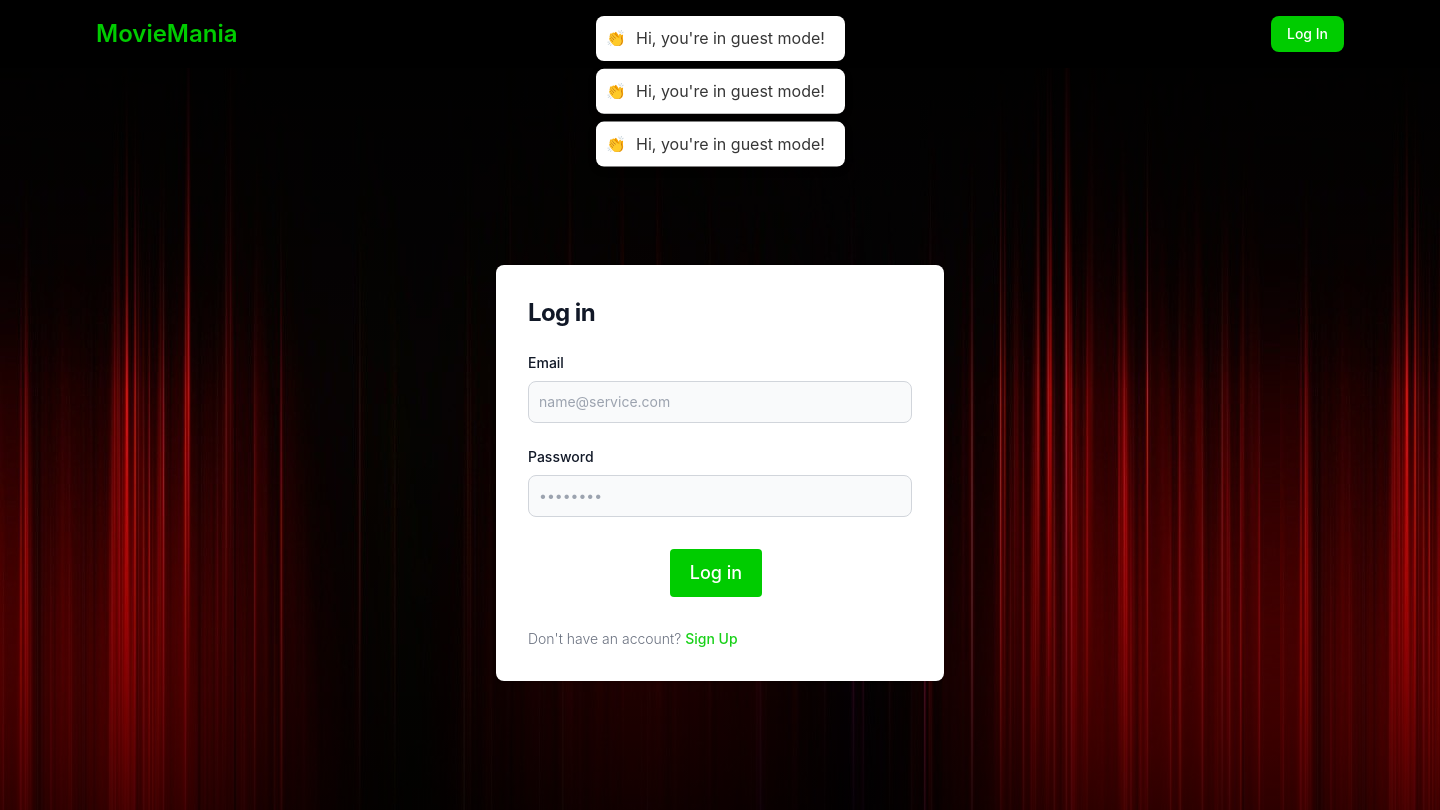
Test: LogIn Component Unit and Functional Tests › form validation for missing password
This screenshot has width=1440, height=810.
Type "test@example.com" into the field with placeholder "name@service.com".
click(720, 402); type("test@example.com")  # box x1=528 y1=381 x2=912 y2=423
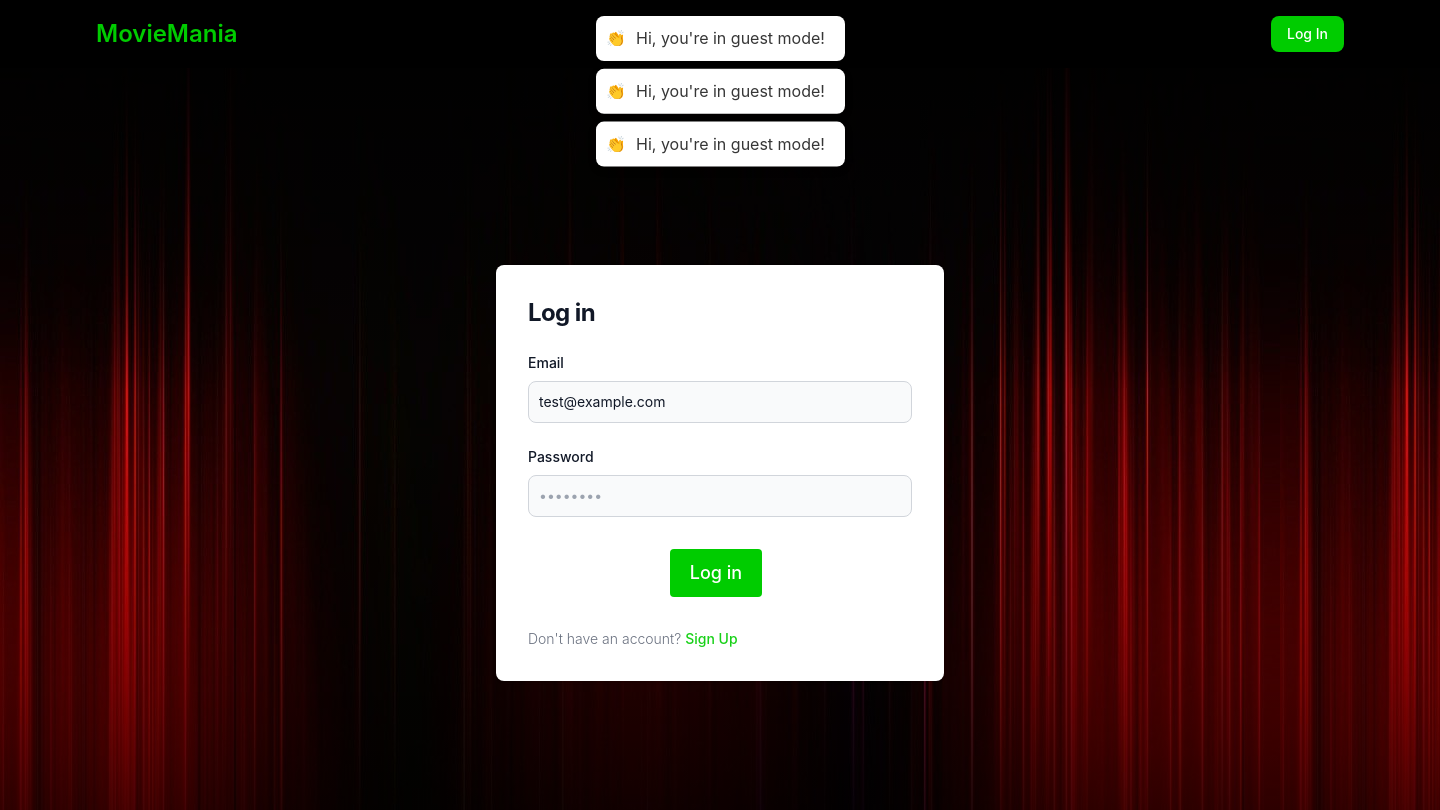
Click the button "Log in".
click(716, 573)  # box x1=670 y1=549 x2=762 y2=597
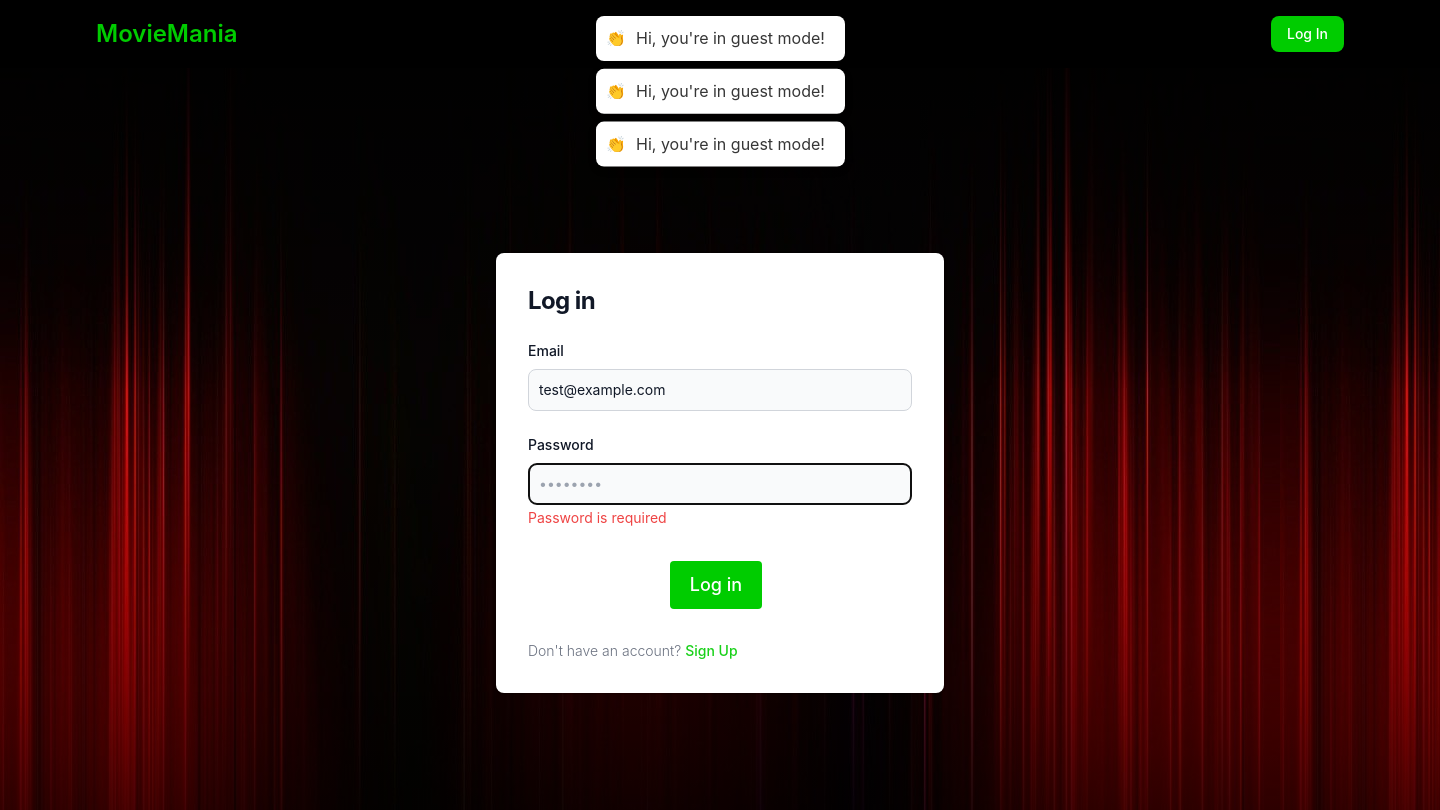
Check: the text "Password is required" is shown, box x1=528 y1=509 x2=667 y2=526
